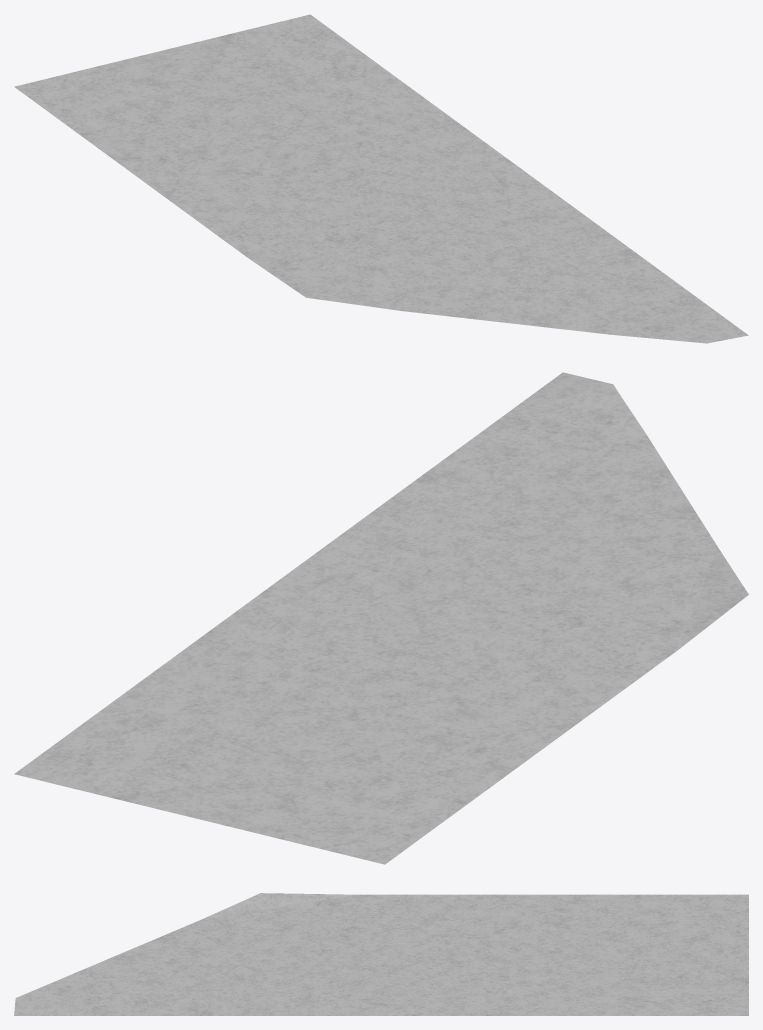
The model's file is bathroom_0_0.ceiling.glb.
3 views of the same model, one above another, from view 1: azimuth 30°, elevation 25°; view 2: azimuth 150°, elevation 25°; view 3: azimuth 270°, elevation 25° (orthographic). The views are drawn at different scales.
Visible parts, largest first — view 1: bathroom_0/0.ceiling.001; view 2: bathroom_0/0.ceiling.001; view 3: bathroom_0/0.ceiling.001.
Part boxes in pixels (x1,y1,x2,y2): bathroom_0/0.ceiling.001: (14, 14, 748, 343); bathroom_0/0.ceiling.001: (14, 372, 748, 864); bathroom_0/0.ceiling.001: (14, 893, 748, 1015).
Bounding box in the file's own units: 2.24 × 0.0159 × 5.74.
1 material, 1 textured.
